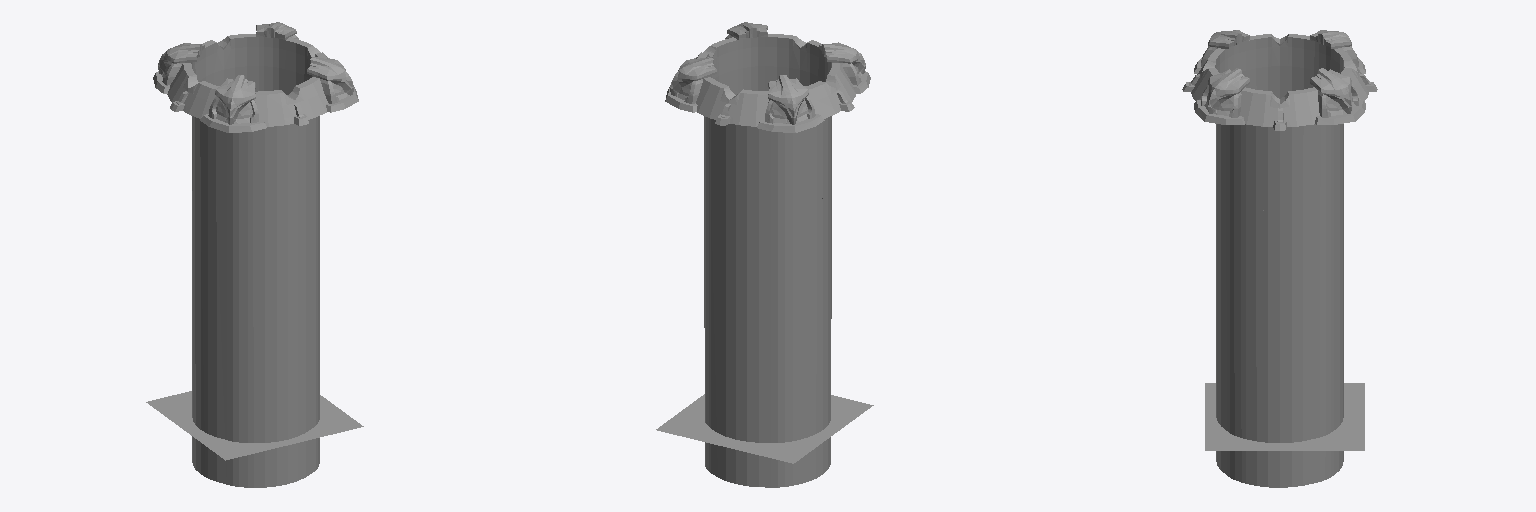
File: chaos_nexus_rubble.obj
The picture shows the model from 3 angles: view 1: azimuth 30°, elevation 25°; view 2: azimuth 150°, elevation 25°; view 3: azimuth 270°, elevation 25°; orthographic projection.
Visible parts, largest first — view 1: lolMesh_sruap_chaosnexus_rubble; view 2: lolMesh_sruap_chaosnexus_rubble; view 3: lolMesh_sruap_chaosnexus_rubble.
Part boxes in pixels (left/top/right/bottom): lolMesh_sruap_chaosnexus_rubble: left=146, top=22, right=363, bottom=487; lolMesh_sruap_chaosnexus_rubble: left=656, top=22, right=873, bottom=487; lolMesh_sruap_chaosnexus_rubble: left=1182, top=30, right=1377, bottom=487.
Size of the model in its own units: 6.39 by 14.8 by 6.39.